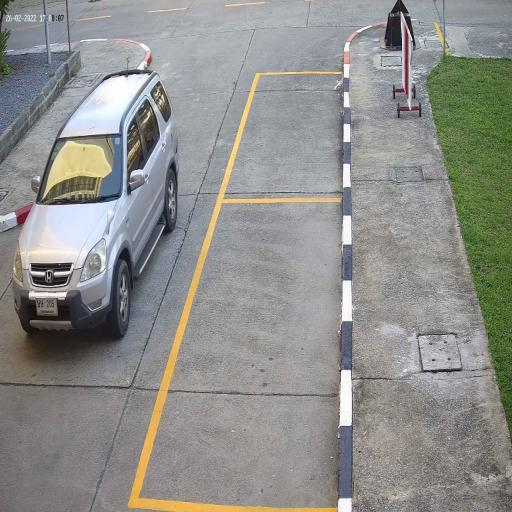car: (11, 64, 182, 346)
